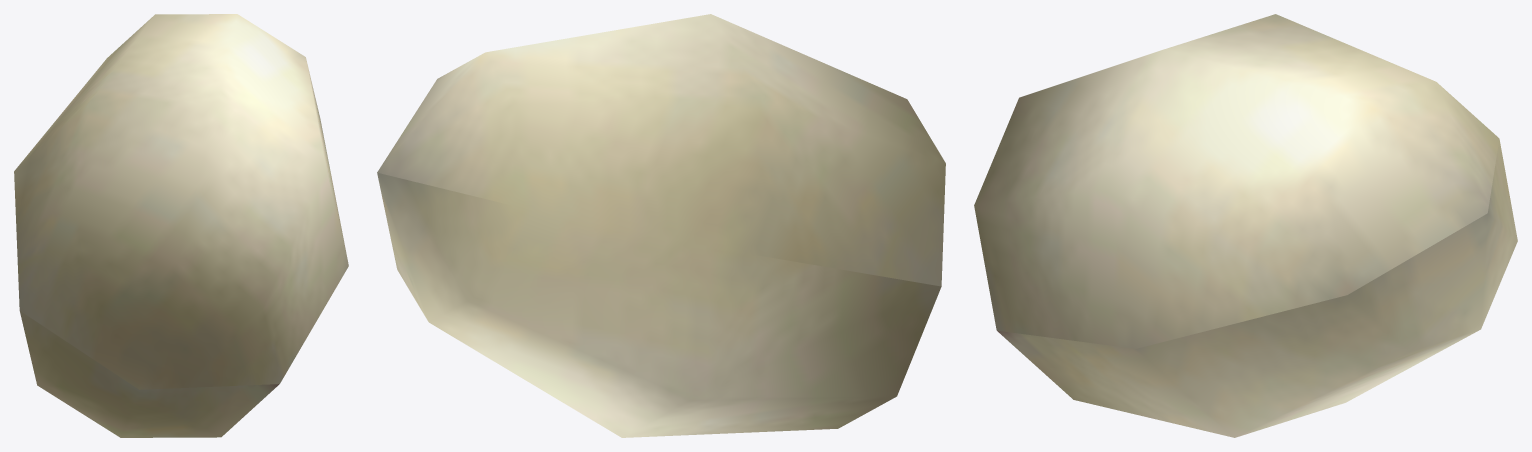
The picture shows the model from 3 angles, left to right: view 1: azimuth 30°, elevation 25°; view 2: azimuth 150°, elevation 25°; view 3: azimuth 270°, elevation 25°; orthographic projection. The views are drawn at different scales.
Parts seen in each view (by area): view 1: egg; view 2: egg; view 3: egg.
Boxes of the visible parts, bbox=[...] form: egg: bbox=[14, 14, 348, 437]; egg: bbox=[377, 14, 945, 437]; egg: bbox=[974, 14, 1517, 437].
Size of the model in its own units: 20.42 by 16.69 by 21.14.
1 material, 1 textured.
